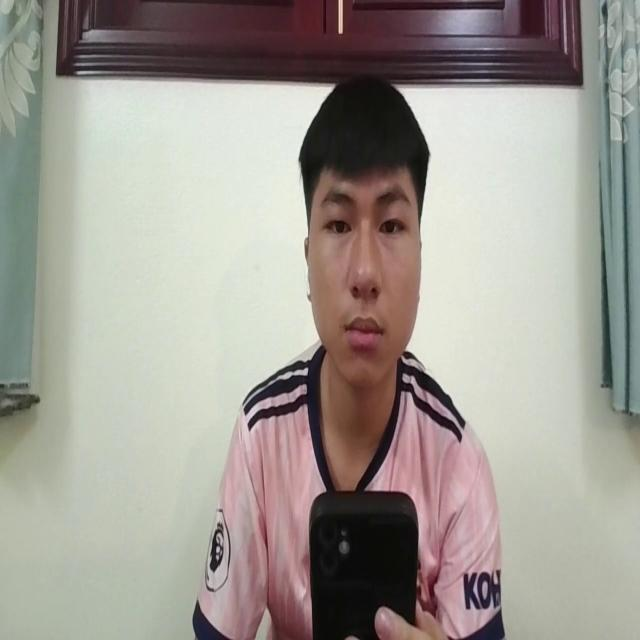phone: (309, 486, 421, 640)
student: (193, 66, 504, 640)
